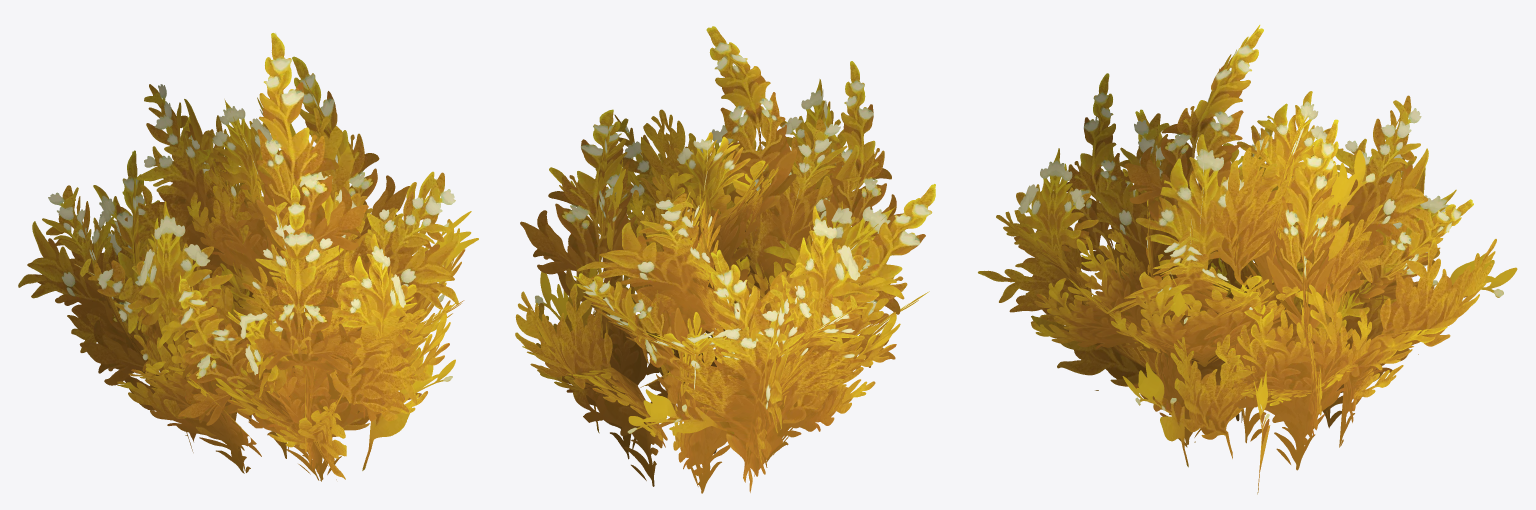
3 renders of one model, left to right at view 1: azimuth 30°, elevation 25°; view 2: azimuth 150°, elevation 25°; view 3: azimuth 270°, elevation 25°, orthographic. The views are drawn at different scales.
Size of the model in its own units: 7.02 by 8.34 by 9.59.
Materials: 1 (1 with a texture image).
